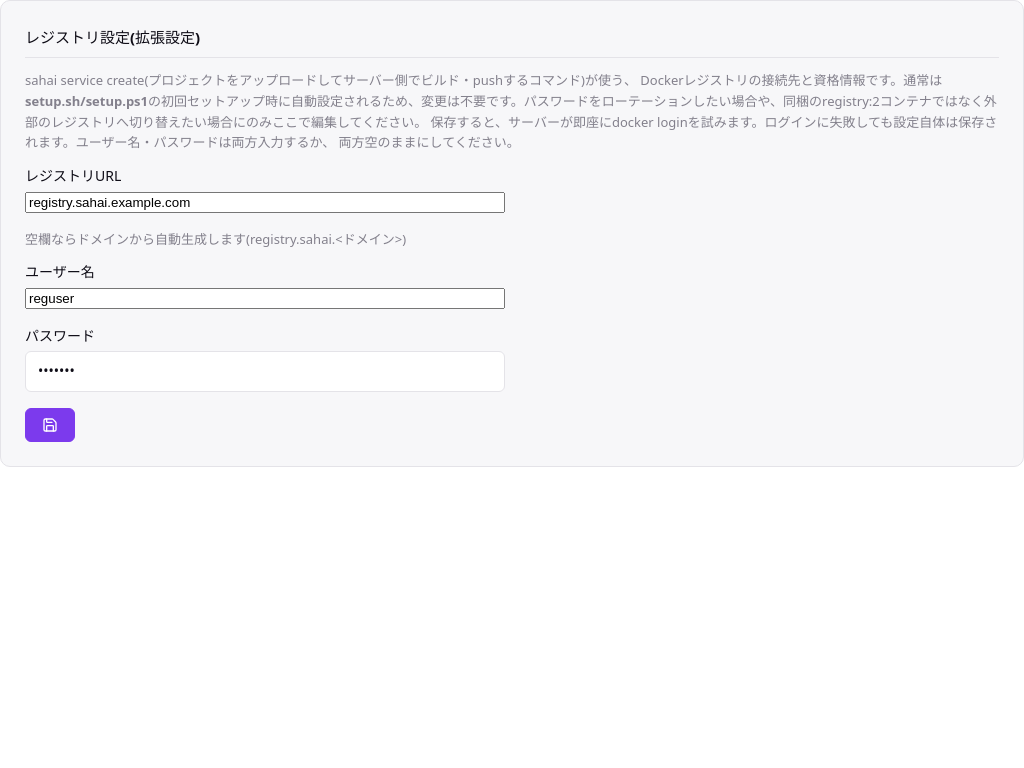
Test: RegistryConfigSection › 保存ボタンでupdateRegistryConfigを呼び、成功したら保存完了メッセージを表示する
The width and height of the screenshot is (1024, 768).
Replace the text in the field labelled "レジストリURL" with "registry.new.example.com" at (265, 202), box [25,192,505,213]
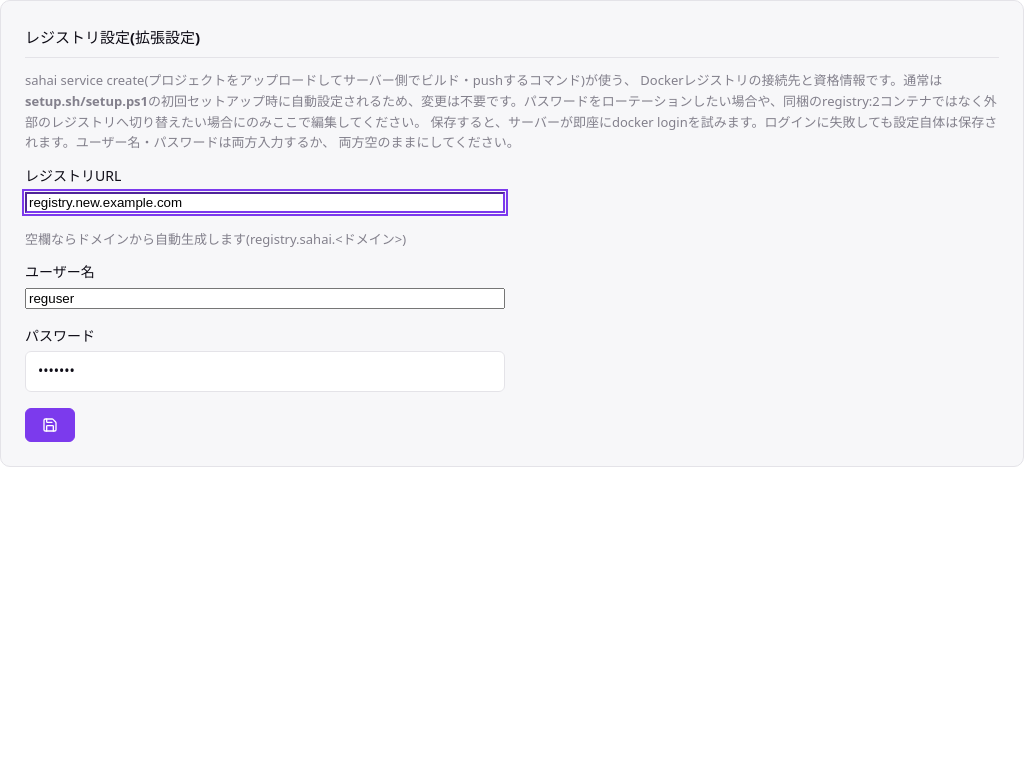
Click the button named "レジストリ設定を保存" at (50, 424), box [25,408,75,442]
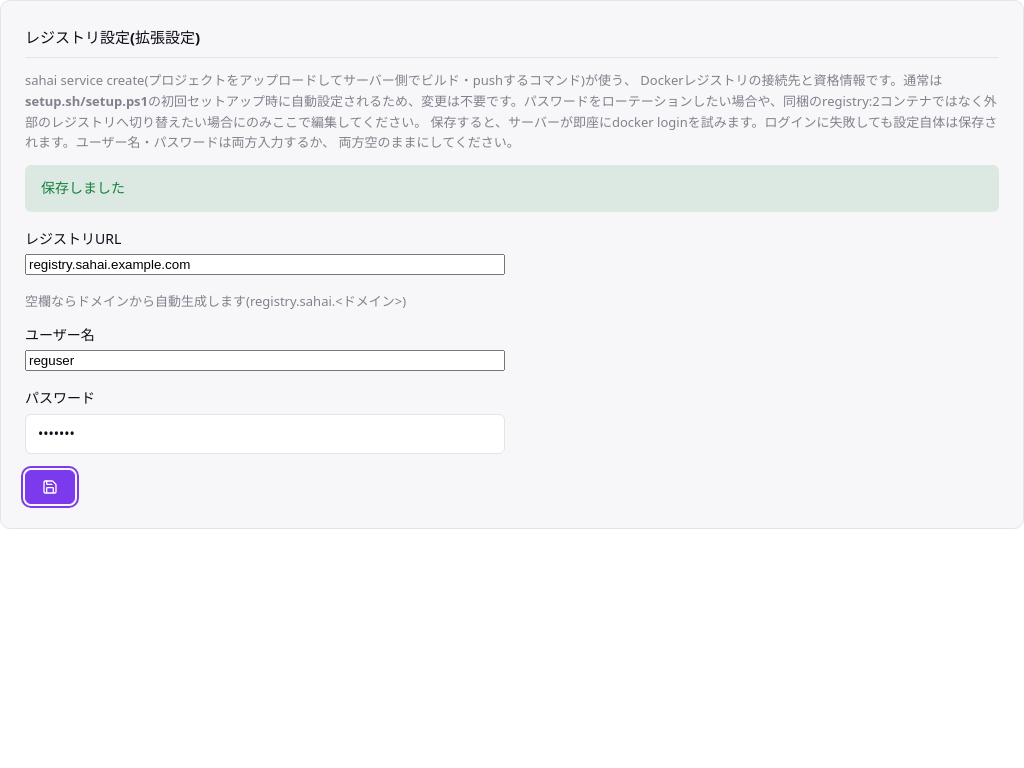
Expected: the text "保存しました" is shown, [25,165,999,212]
